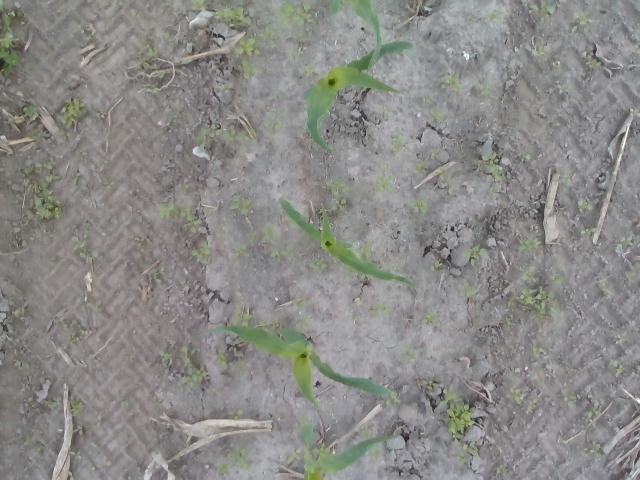Maize: (207, 325, 390, 407), (304, 40, 416, 154), (276, 196, 416, 286), (297, 420, 391, 480), (328, 0, 382, 70)
Weeds: (17, 159, 65, 221), (439, 387, 476, 446), (0, 0, 27, 78), (511, 285, 562, 320), (254, 0, 288, 49), (197, 125, 257, 150), (178, 344, 208, 390), (218, 441, 256, 477), (232, 32, 260, 79), (212, 0, 256, 28), (480, 151, 508, 194), (54, 94, 88, 128), (528, 0, 560, 32), (328, 175, 352, 215), (176, 206, 208, 234), (288, 0, 318, 29), (232, 231, 258, 259), (406, 191, 432, 214), (434, 165, 456, 192), (230, 192, 254, 216), (456, 442, 480, 465), (464, 243, 489, 265), (272, 245, 296, 265), (391, 126, 408, 154), (373, 174, 398, 193), (266, 110, 288, 131), (75, 240, 96, 262), (234, 303, 254, 326), (440, 73, 464, 92), (472, 78, 496, 96), (419, 306, 440, 326), (512, 240, 544, 252), (616, 231, 636, 249), (31, 126, 51, 144), (399, 344, 417, 364), (192, 238, 208, 260), (298, 63, 320, 79), (505, 386, 524, 404), (359, 238, 376, 258), (308, 255, 328, 272), (368, 303, 393, 316), (366, 446, 384, 464), (286, 447, 304, 465), (158, 201, 176, 219), (519, 264, 537, 282), (58, 318, 81, 332), (358, 423, 376, 440), (80, 22, 96, 41), (384, 390, 401, 407), (68, 399, 84, 417), (583, 400, 601, 416), (584, 54, 604, 68), (262, 227, 282, 241), (416, 378, 439, 390), (576, 7, 592, 24), (42, 398, 58, 415), (22, 104, 39, 120), (376, 104, 392, 120), (608, 360, 624, 376), (463, 282, 479, 298), (623, 270, 637, 288), (428, 106, 446, 120), (11, 359, 32, 371), (256, 318, 280, 328), (214, 352, 229, 368), (526, 398, 540, 415), (145, 46, 160, 61), (296, 315, 312, 329), (528, 46, 550, 56), (14, 302, 26, 320), (486, 10, 504, 22), (236, 360, 248, 378), (227, 408, 245, 420), (579, 225, 596, 237), (602, 286, 616, 300), (162, 30, 176, 44), (560, 174, 574, 188), (577, 199, 592, 212), (311, 446, 330, 456), (560, 391, 577, 402), (68, 449, 82, 462), (531, 343, 545, 356), (288, 48, 302, 61), (190, 0, 208, 10), (159, 350, 174, 362), (294, 296, 306, 311), (614, 334, 632, 344), (390, 256, 400, 273), (414, 162, 427, 175), (582, 446, 598, 456), (431, 148, 444, 160), (496, 463, 508, 476), (431, 260, 444, 272), (146, 86, 161, 96), (95, 107, 106, 120), (556, 84, 570, 94), (128, 9, 145, 17), (518, 152, 532, 161), (23, 432, 32, 446), (180, 183, 192, 193), (629, 107, 640, 117), (358, 272, 371, 280), (70, 175, 80, 185), (551, 58, 560, 69), (120, 399, 129, 410), (68, 334, 79, 343), (272, 94, 284, 102), (223, 83, 232, 93), (151, 269, 160, 279), (67, 470, 76, 480), (319, 471, 329, 480), (551, 274, 560, 284), (95, 303, 104, 312), (159, 72, 169, 80), (421, 95, 431, 103), (632, 46, 640, 56), (537, 142, 545, 152), (596, 192, 606, 200), (406, 15, 413, 26), (520, 0, 528, 7), (329, 127, 337, 132), (352, 316, 359, 320)
